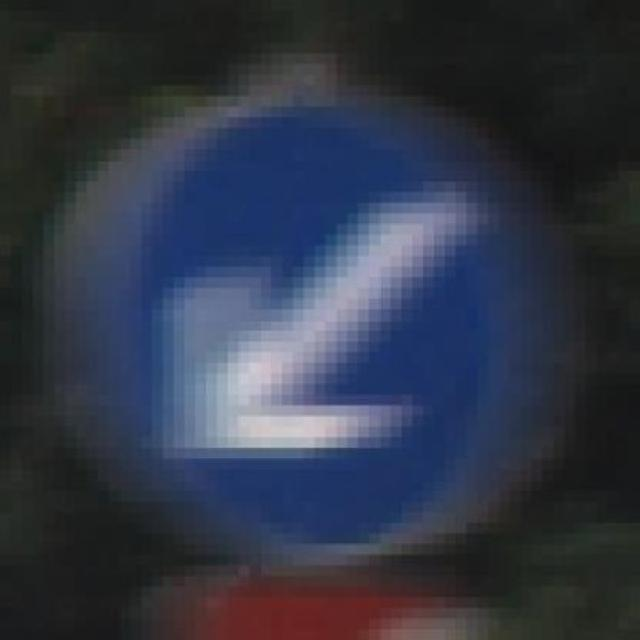Keep-Left: (43, 75, 554, 533)
